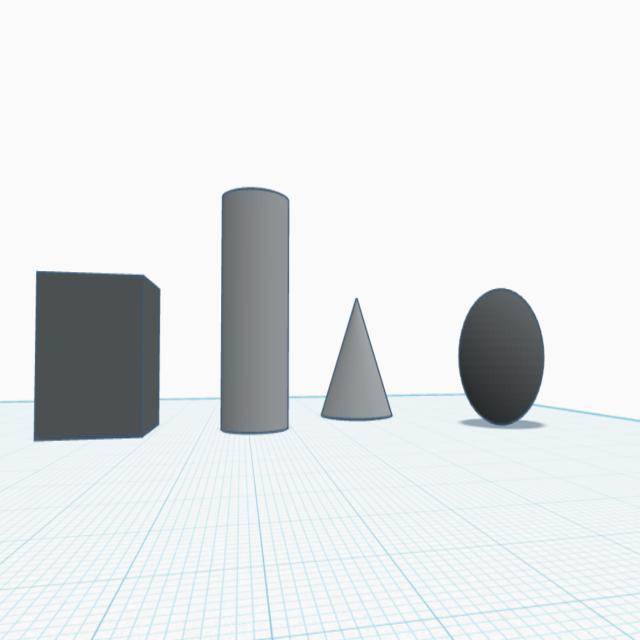cone: (316, 290, 396, 427)
cube: (30, 262, 165, 453)
sphere: (455, 281, 546, 428)
